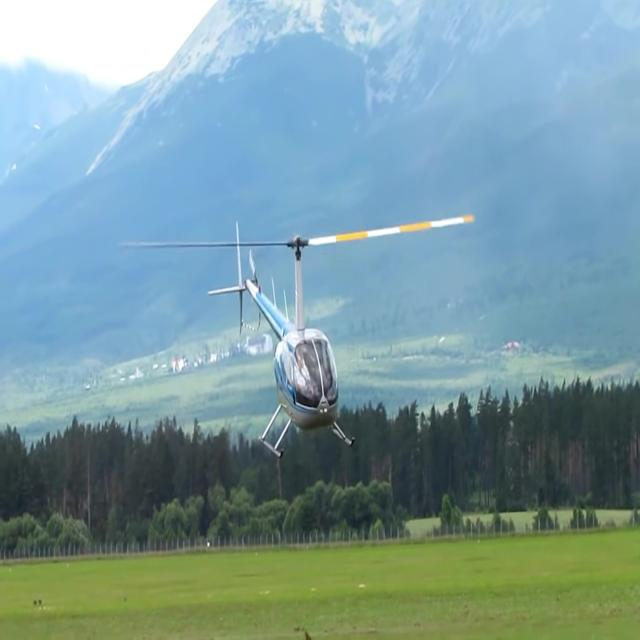CIV_HELO: (206, 221, 355, 461)
